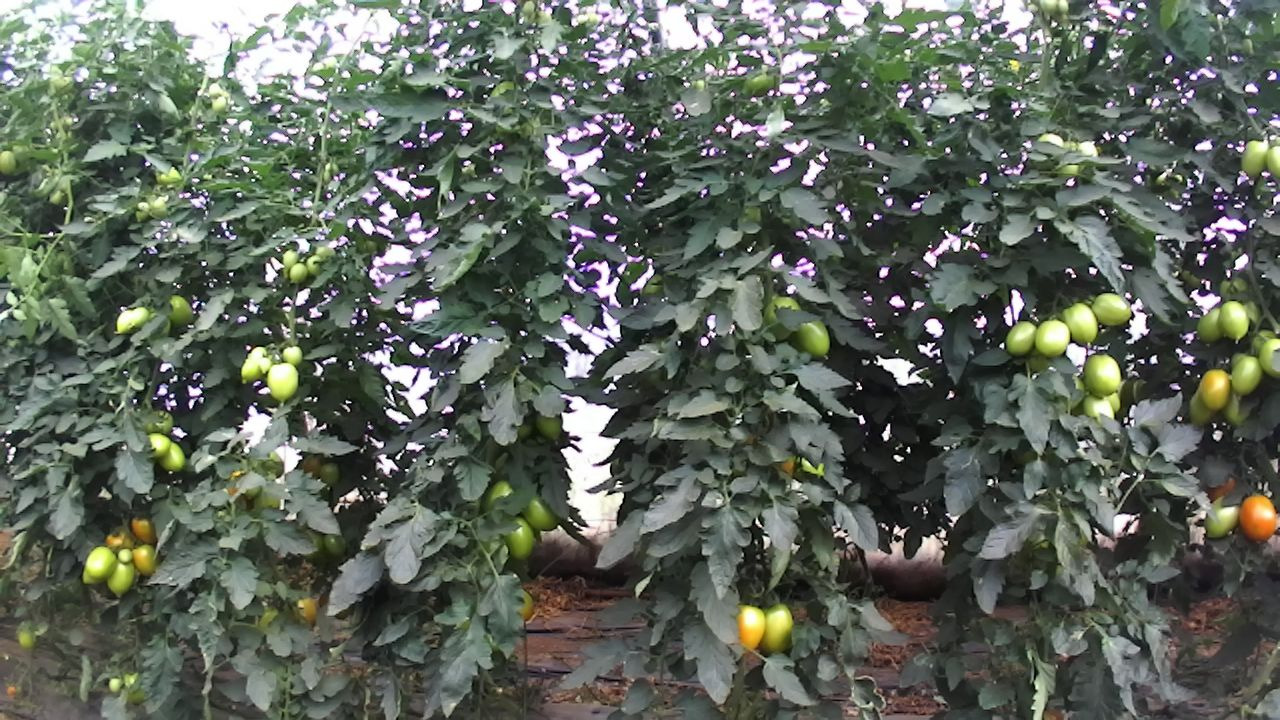tomato: (1235, 489, 1279, 547), (753, 602, 798, 657), (789, 315, 834, 363), (1057, 299, 1101, 348), (1082, 351, 1124, 401), (731, 601, 768, 654), (501, 510, 537, 563), (1031, 315, 1072, 360), (1215, 294, 1250, 343), (1089, 290, 1134, 328), (1197, 367, 1233, 413), (1230, 352, 1265, 399), (265, 360, 301, 405), (104, 554, 137, 601), (238, 342, 272, 386), (1002, 318, 1038, 359), (1237, 137, 1272, 179), (83, 542, 118, 583), (1194, 304, 1225, 347), (164, 290, 195, 331), (129, 542, 163, 579), (523, 499, 560, 532), (156, 437, 187, 475), (535, 410, 564, 443), (320, 529, 349, 559), (145, 431, 172, 463), (317, 459, 342, 489), (279, 343, 304, 368), (287, 260, 310, 286), (0, 149, 17, 178), (115, 545, 135, 565)
